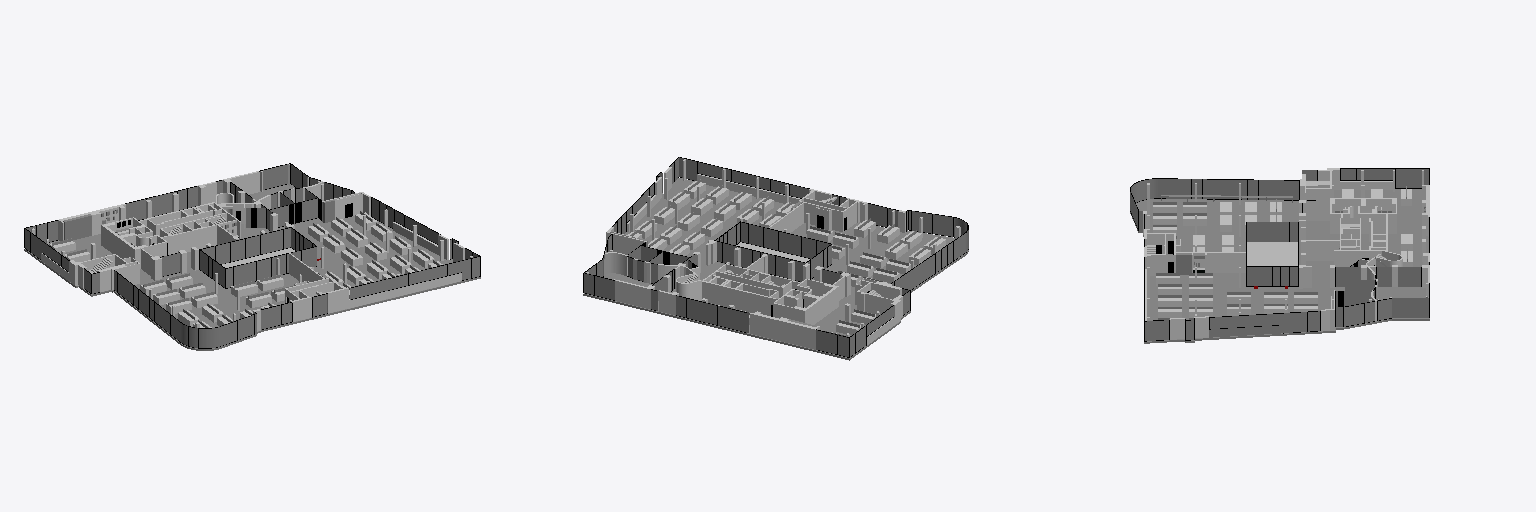
File: floorplans.obj
3 renders of one model, left to right at view 1: azimuth 30°, elevation 25°; view 2: azimuth 150°, elevation 25°; view 3: azimuth 270°, elevation 25°, orthographic.
Parts seen in each view (by area): view 1: Walls_1_Floor_001, Windows_glass_003, Slab_1_Floor_003, Glazed_partitions_glass_002, Windows_frame_004, Windows_frame_005, Box194051; view 2: Walls_1_Floor_001, Windows_glass_003, Slab_1_Floor_003, Windows_frame_004, Glazed_partitions_glass_002, Windows_frame_005; view 3: Walls_1_Floor_001, Windows_glass_003, Slab_1_Floor_003, Windows_frame_004, Slab_1_Floor_002, Glazed_partitions_glass_002.
Part boxes in pixels (left/top/right/bottom): Walls_1_Floor_001: left=31, top=164, right=472, bottom=331; Windows_glass_003: left=25, top=164, right=479, bottom=347; Slab_1_Floor_003: left=24, top=184, right=480, bottom=350; Glazed_partitions_glass_002: left=161, top=189, right=317, bottom=276; Windows_frame_004: left=24, top=163, right=480, bottom=348; Windows_frame_005: left=30, top=173, right=472, bottom=347; Box194051: left=63, top=214, right=91, bottom=239; Walls_1_Floor_001: left=586, top=159, right=960, bottom=349; Windows_glass_003: left=584, top=157, right=968, bottom=356; Slab_1_Floor_003: left=583, top=178, right=968, bottom=360; Windows_frame_004: left=583, top=157, right=968, bottom=357; Glazed_partitions_glass_002: left=628, top=246, right=840, bottom=284; Windows_frame_005: left=594, top=162, right=967, bottom=354; Walls_1_Floor_001: left=1143, top=168, right=1429, bottom=339; Windows_glass_003: left=1130, top=169, right=1428, bottom=340; Slab_1_Floor_003: left=1130, top=189, right=1429, bottom=343; Windows_frame_004: left=1130, top=168, right=1429, bottom=341; Slab_1_Floor_002: left=1247, top=242, right=1297, bottom=265; Glazed_partitions_glass_002: left=1336, top=260, right=1374, bottom=306.
Bounding box in the file's own units: 51767 × 3561 × 42891.